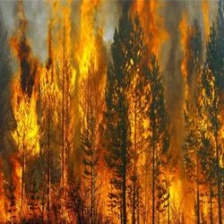fire: (13, 12, 103, 155), (182, 19, 220, 163), (131, 5, 157, 149), (156, 172, 197, 221)
